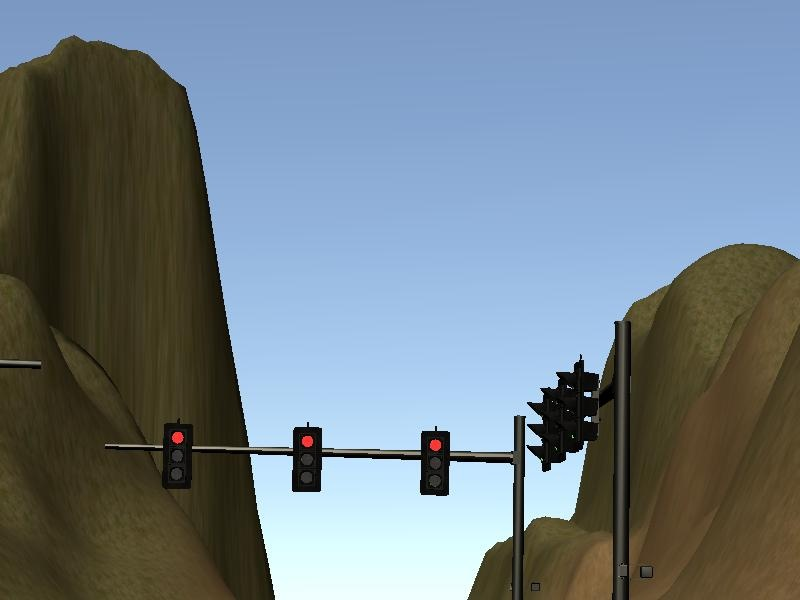red: (416, 431, 452, 498), (160, 423, 194, 488), (290, 427, 323, 493)
